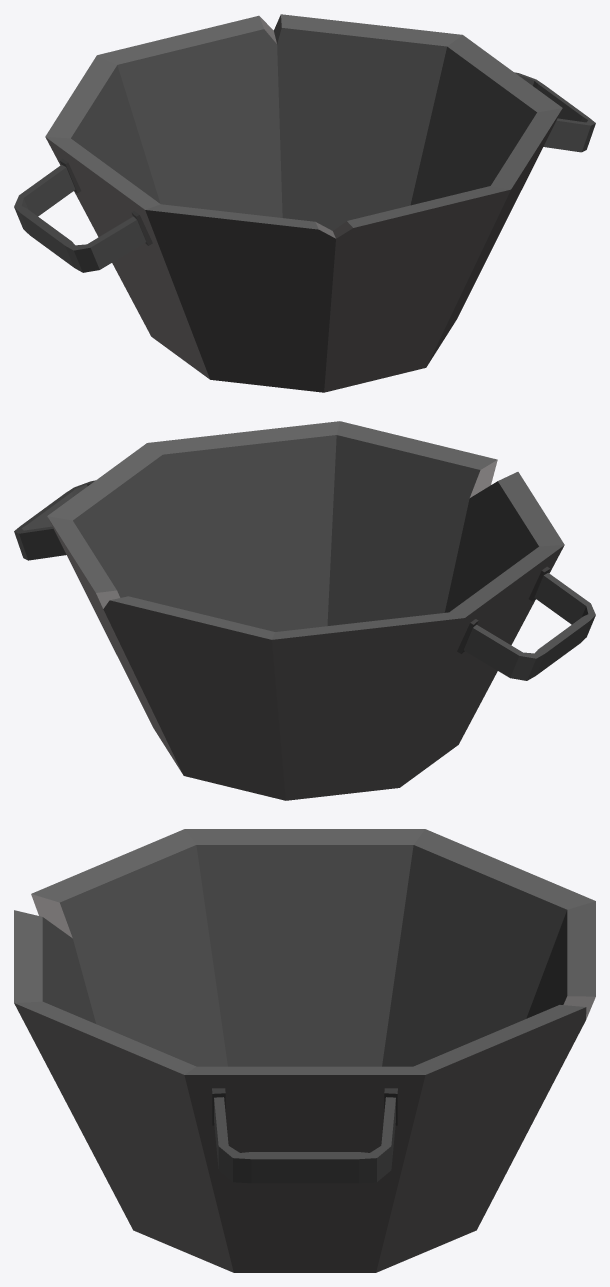
File: Bucket_02.glb
The picture shows the model from 3 angles, top to bottom: view 1: azimuth 30°, elevation 25°; view 2: azimuth 150°, elevation 25°; view 3: azimuth 270°, elevation 25°; orthographic projection. The views are drawn at different scales.
Visible parts, largest first — view 1: Bucket_02; view 2: Bucket_02; view 3: Bucket_02.
Boxes of the visible parts, box(x1,y1,x2,y2) form: Bucket_02: box(14, 14, 595, 392); Bucket_02: box(14, 421, 595, 800); Bucket_02: box(14, 829, 595, 1272).
Size of what is drawn, in the model's own units: 0.7286 by 0.2733 by 0.5805.
Materials: 1 (1 with a texture image).
